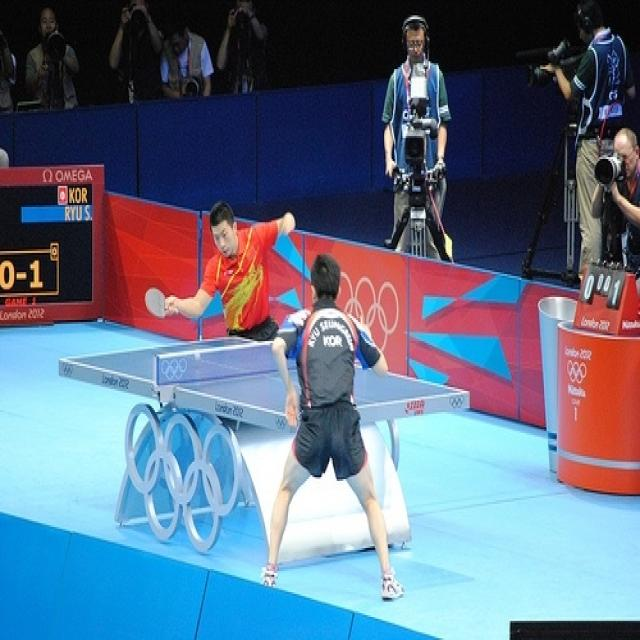TT Net: (153, 337, 298, 387)
TT Racket: (135, 282, 187, 321)
TT Table: (58, 299, 472, 456)
